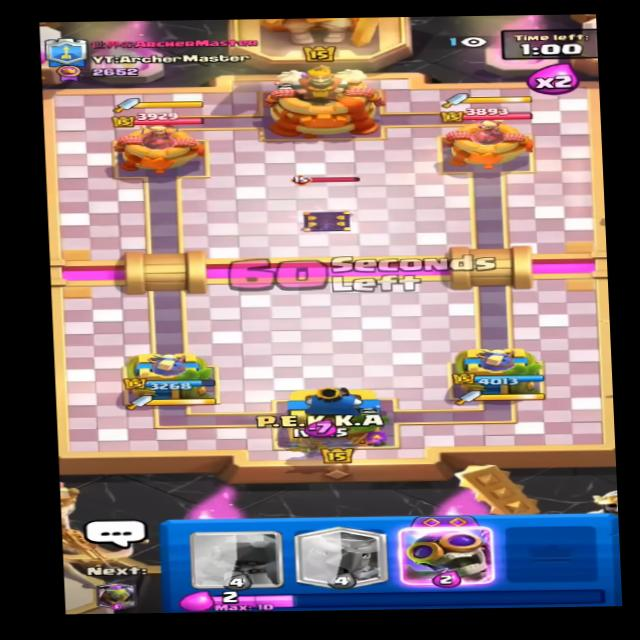evo-tesla-closed: (279, 172, 370, 234)
